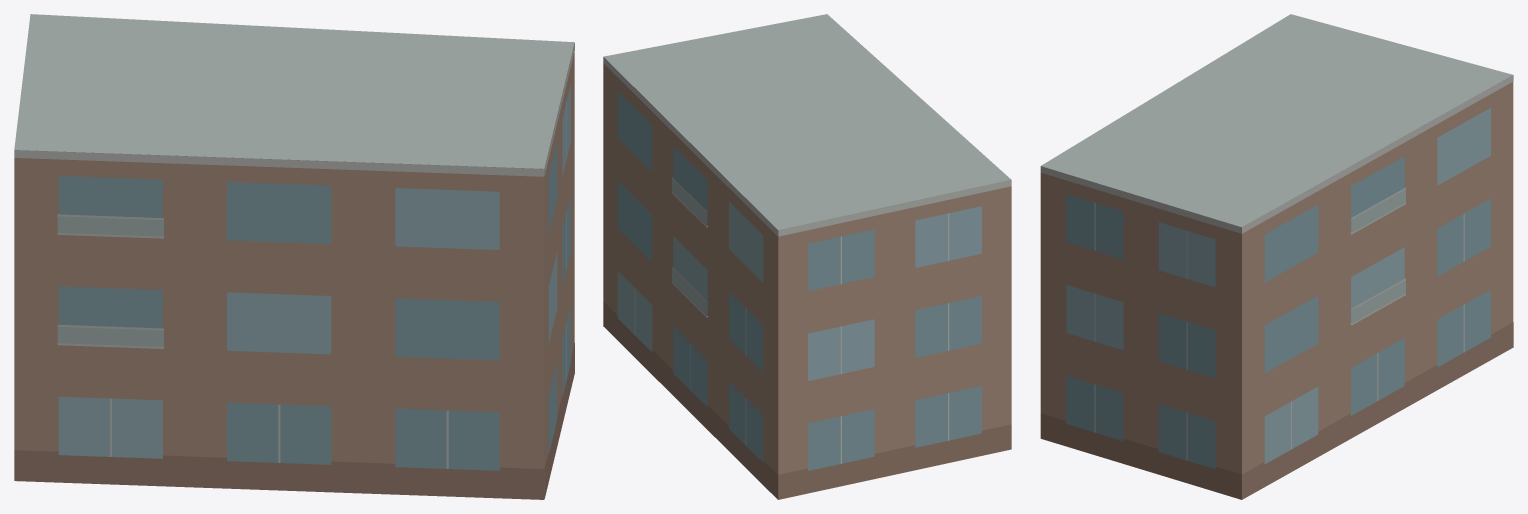
The model's file is survey-upis-32945688.glb.
3 views of the same model, side by side, from view 1: azimuth 30°, elevation 25°; view 2: azimuth 150°, elevation 25°; view 3: azimuth 270°, elevation 25° (orthographic). The views are drawn at different scales.
Parts seen in each view (by area): view 1: survey-upis-32945688.tmp; view 2: survey-upis-32945688.tmp; view 3: survey-upis-32945688.tmp.
Part boxes in pixels (<box>): survey-upis-32945688.tmp: <box>14,14,574,499</box>; survey-upis-32945688.tmp: <box>603,14,1011,499</box>; survey-upis-32945688.tmp: <box>1040,14,1513,499</box>.
Bounding box in the file's own units: 17.04 × 10.15 × 15.96.
